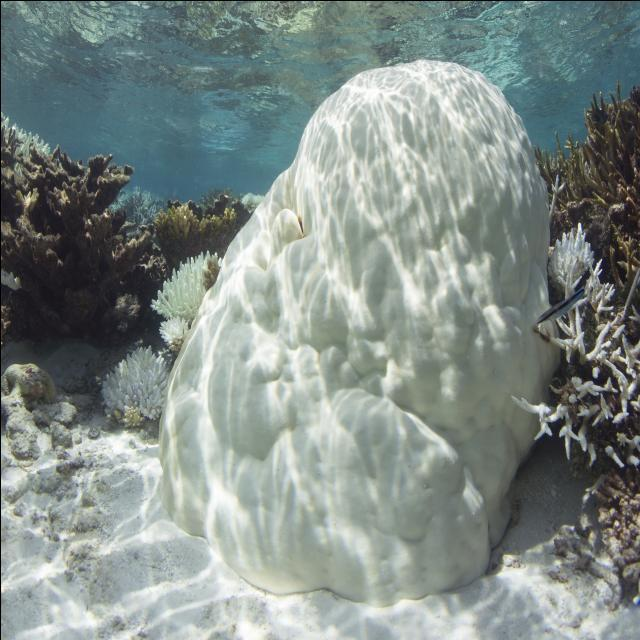Bleached Coral: (157, 67, 567, 546), (530, 233, 640, 458), (96, 350, 182, 418), (155, 256, 219, 339)
Dead Coral: (0, 133, 149, 335)
